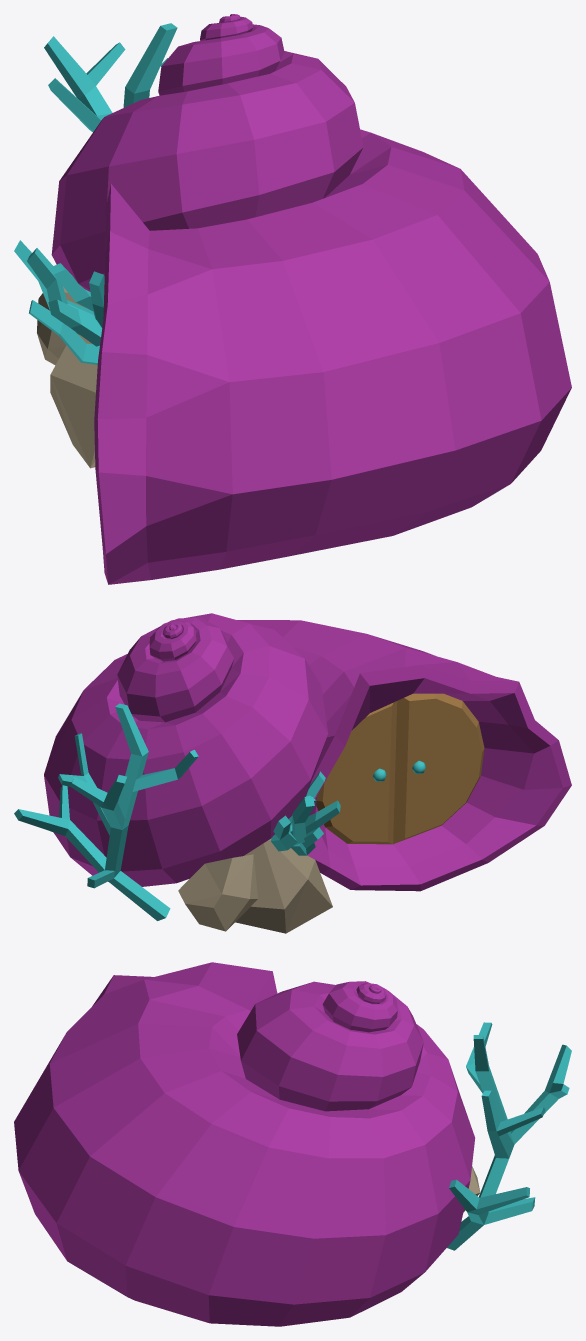
The model's file is Snail_Building.fbx.
The picture shows the model from 3 angles, top to bottom: view 1: azimuth 30°, elevation 25°; view 2: azimuth 150°, elevation 25°; view 3: azimuth 270°, elevation 25°; orthographic projection. The views are drawn at different scales.
Visible parts, largest first — view 1: Geo; view 2: Geo; view 3: Geo.
Part boxes in pixels (x1,y1,x2,y2): Geo: (14, 14, 571, 584); Geo: (14, 613, 571, 933); Geo: (14, 962, 571, 1326).
Bounding box in the file's own units: 235 × 163 × 275.
